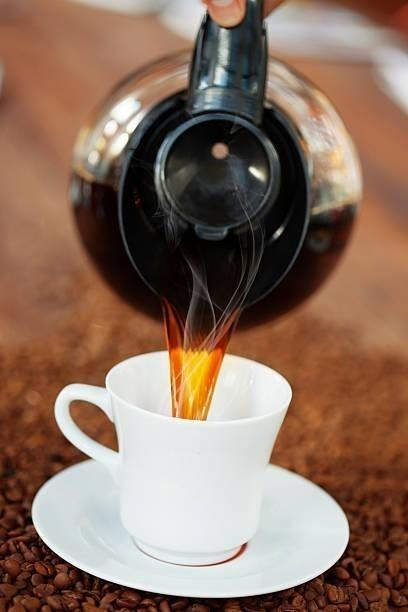cup-handle: (53, 346, 293, 567)
